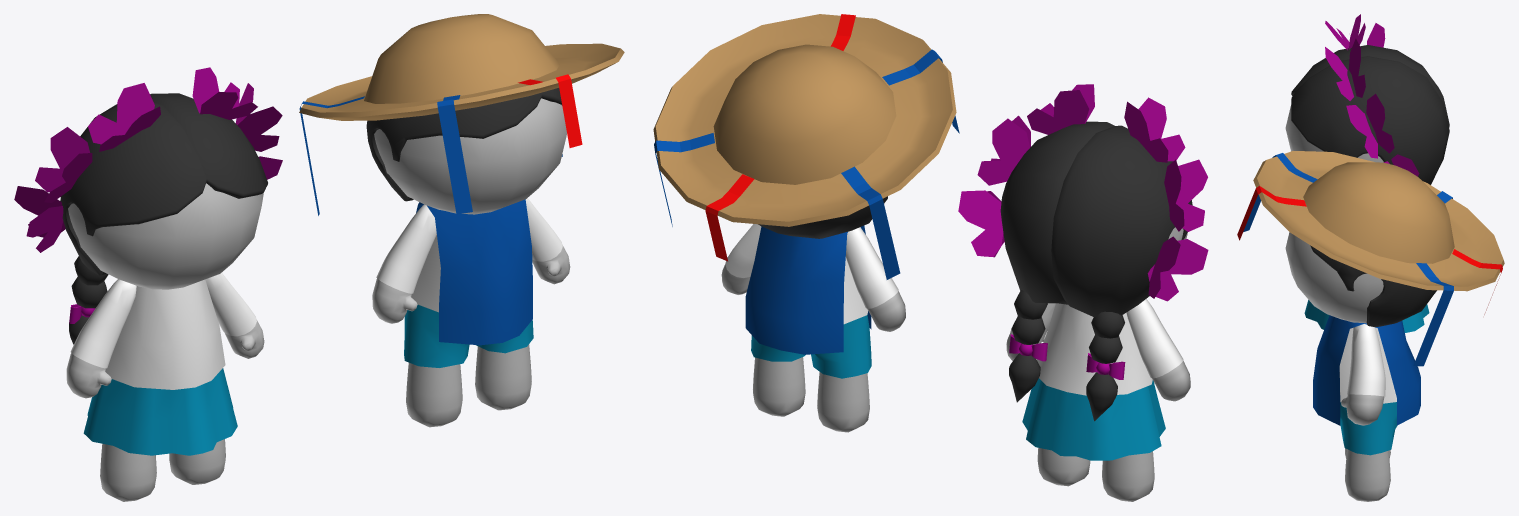
3 views of the same model, side by side, from view 1: azimuth 30°, elevation 25°; view 2: azimuth 150°, elevation 25°; view 3: azimuth 270°, elevation 25° (orthographic). The views are drawn at different scales.
Parts seen in each view (by area): view 1: B_Sombrero001, G_Hair (1), G_Camisa, B_Gaban001, G_Head, B_Head001, G_Skirt001, B_Camisa001, B_Hair001, B_Pants001, Leg_R001, Leg_L001 (+16 smaller); view 2: B_Sombrero001, G_Hair (1), B_Gaban001, G_Skirt001, G_Camisa, B_Camisa001, B_Pants001, Leg_L001, Leg_R001, Leg_R, Plane006, Plane004 (+17 smaller); view 3: B_Sombrero001, G_Hair (1), B_Gaban001, B_Head001, B_Camisa001, B_Hair001, Leg_L001, B_Pants001, Arm_L001, Plane004, G_Skirt001, G_Head (+6 smaller).
Part boxes in pixels (bbox=[...]): B_Sombrero001: bbox=[299, 14, 624, 215]; G_Hair (1): bbox=[60, 93, 267, 275]; G_Camisa: bbox=[70, 272, 256, 389]; B_Gaban001: bbox=[416, 199, 532, 345]; G_Head: bbox=[68, 183, 263, 289]; B_Head001: bbox=[374, 98, 566, 214]; G_Skirt001: bbox=[83, 368, 237, 455]; B_Camisa001: bbox=[376, 198, 562, 312]; B_Hair001: bbox=[366, 88, 562, 201]; B_Pants001: bbox=[404, 304, 533, 367]; Leg_R001: bbox=[406, 362, 462, 427]; Leg_L001: bbox=[475, 344, 531, 410]; B_Sombrero001: bbox=[653, 14, 959, 279]; G_Hair (1): bbox=[1000, 121, 1192, 316]; B_Gaban001: bbox=[745, 225, 871, 354]; G_Skirt001: bbox=[1022, 378, 1165, 460]; G_Camisa: bbox=[1010, 299, 1183, 395]; B_Camisa001: bbox=[725, 224, 898, 324]; B_Pants001: bbox=[751, 314, 871, 378]; Leg_L001: bbox=[753, 357, 805, 416]; Leg_R001: bbox=[817, 372, 869, 432]; Leg_R: bbox=[1102, 451, 1154, 501]; Plane006: bbox=[958, 190, 1004, 256]; Plane004: bbox=[977, 118, 1029, 185]; B_Sombrero001: bbox=[1237, 151, 1504, 366]; G_Hair (1): bbox=[1291, 45, 1449, 184]; B_Gaban001: bbox=[1313, 315, 1420, 425]; B_Head001: bbox=[1285, 232, 1383, 323]; B_Camisa001: bbox=[1339, 324, 1396, 403]; B_Hair001: bbox=[1310, 245, 1436, 327]; Leg_L001: bbox=[1345, 449, 1390, 501]; B_Pants001: bbox=[1340, 402, 1397, 455]; Arm_L001: bbox=[1341, 394, 1384, 425]; Plane004: bbox=[1366, 93, 1394, 153]; G_Skirt001: bbox=[1304, 300, 1429, 332]; G_Head: bbox=[1285, 105, 1383, 162].
Bounding box in the file's own units: 1.59 × 1.1 × 0.7918.
